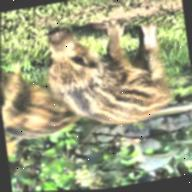boar: (46, 0, 184, 145), (0, 48, 76, 167)
